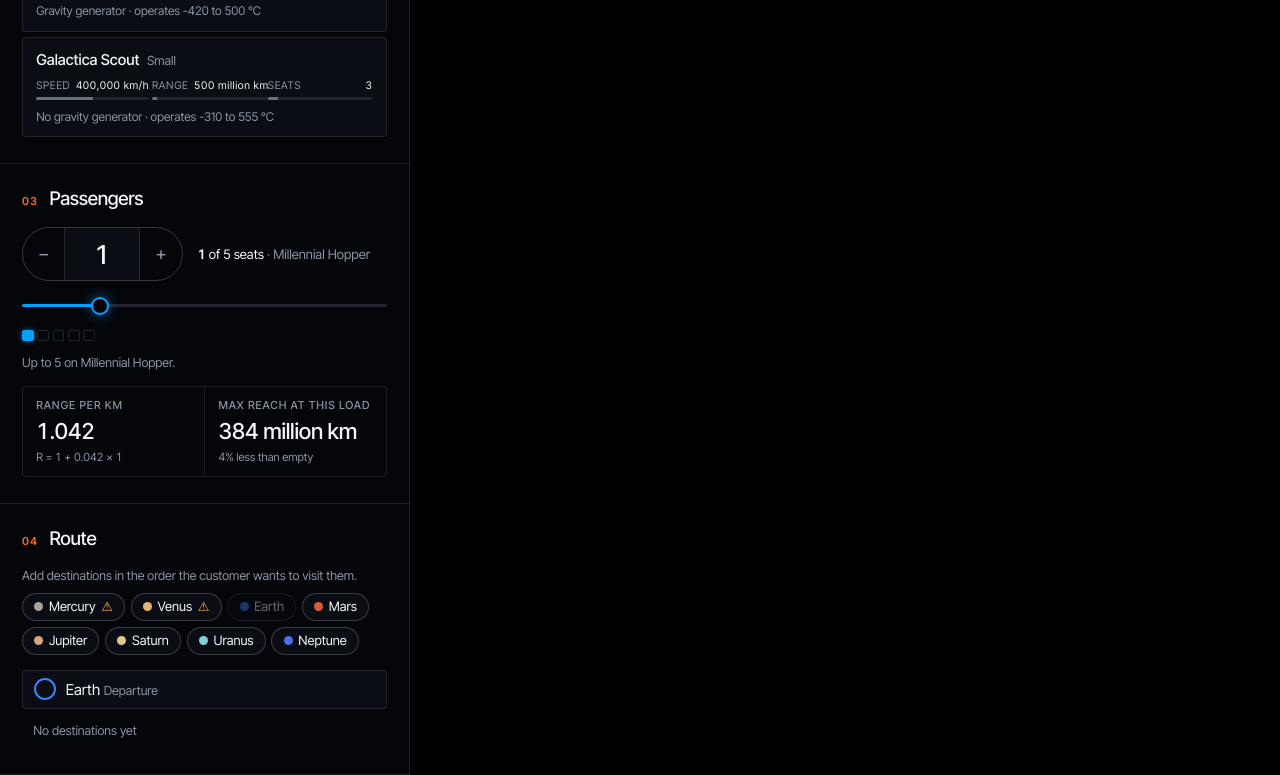
Live calculation › calculates once the agent pauses, sending the whole route from Earth
(page scrolled)
Click the button with aria-label "Add Mars" at coordinates (336, 607), box 302,593 -> 369,621
(page scrolled)
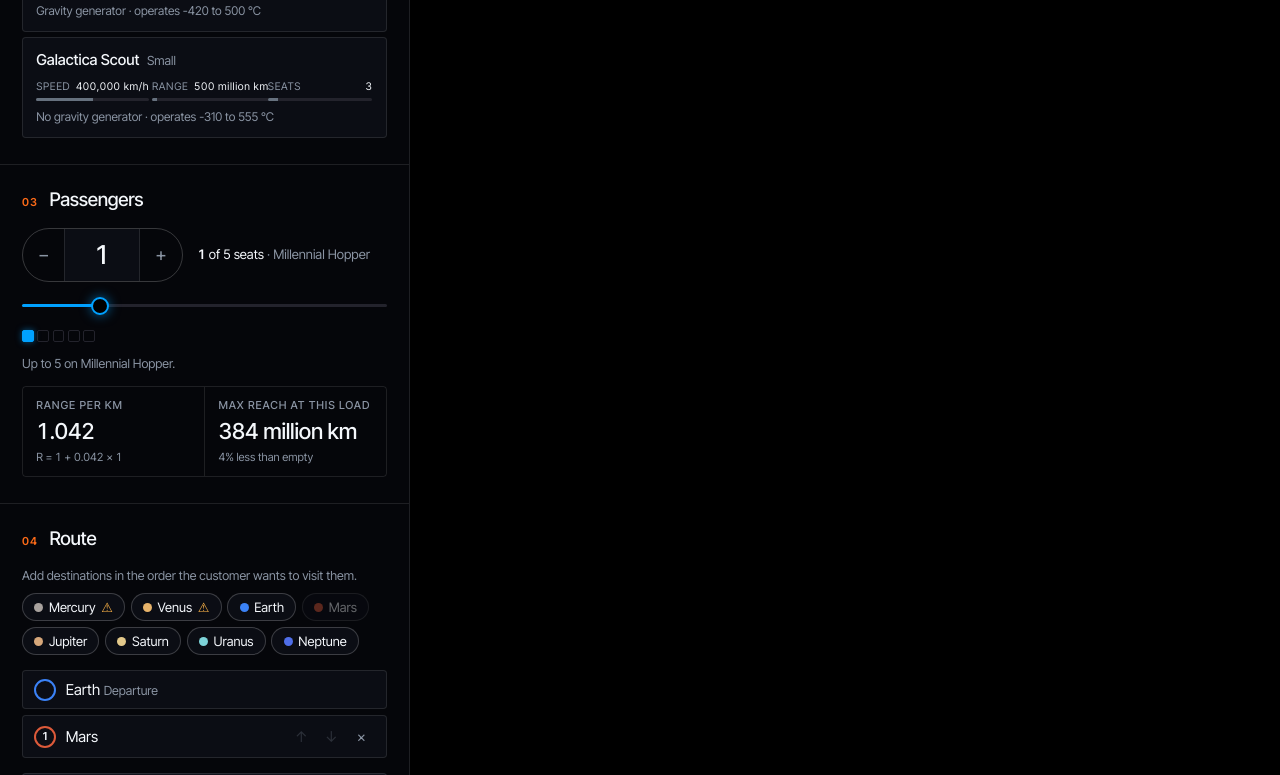
Click the button with aria-label "Add Jupiter" at coordinates (61, 641), box 22,627 -> 100,655
(page scrolled)
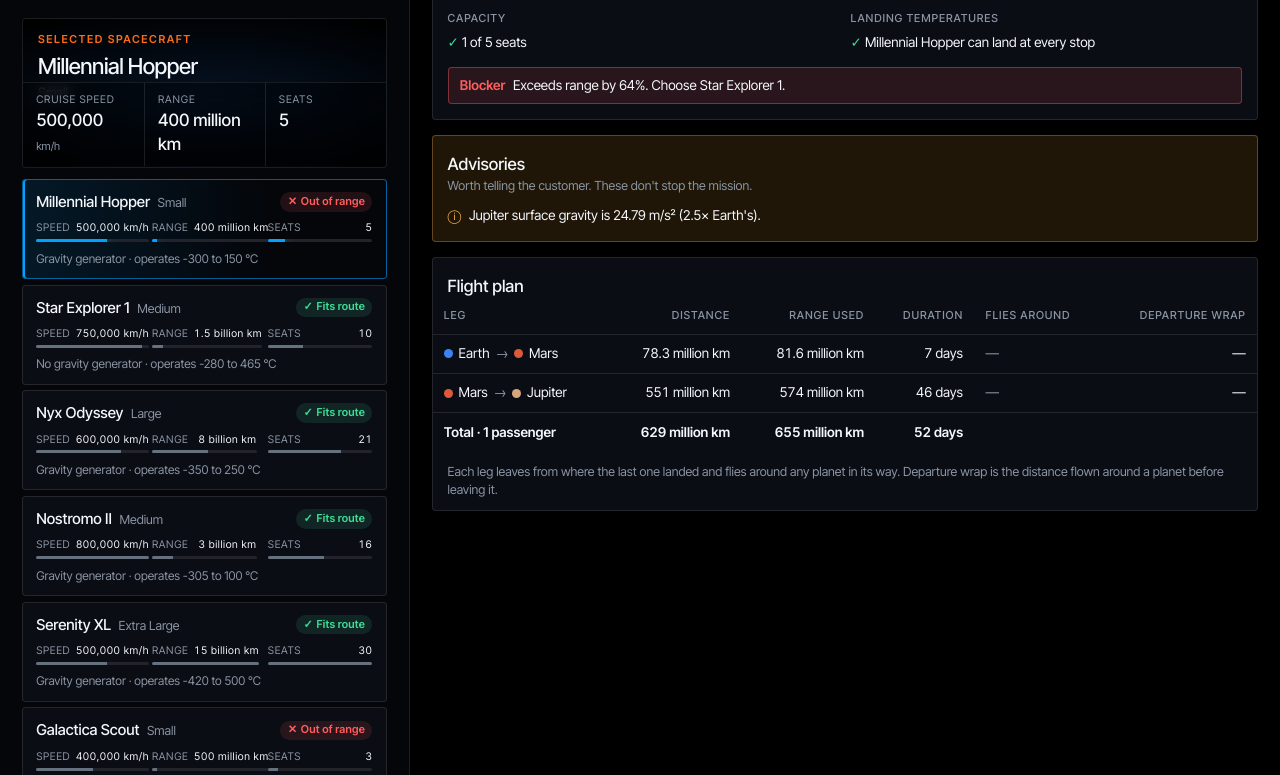
Check: the table is shown, box 433,299 -> 1257,452
